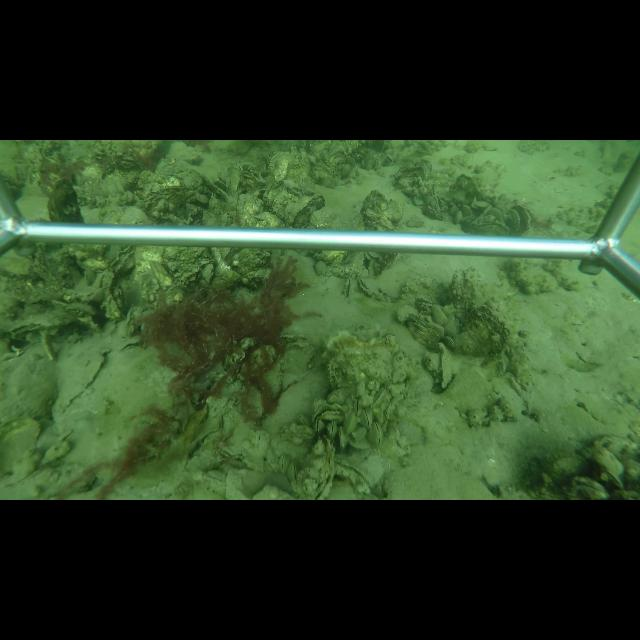Oyster-Closed: (8, 309, 82, 336), (309, 434, 340, 498), (284, 194, 326, 228), (218, 445, 267, 473), (336, 458, 374, 492), (434, 341, 458, 392), (200, 174, 233, 202), (367, 422, 386, 451), (431, 187, 444, 219), (357, 409, 375, 430), (230, 167, 242, 196), (286, 459, 299, 483), (318, 411, 345, 422), (278, 452, 290, 474), (328, 419, 339, 438), (313, 420, 325, 435)
Oyster-Open: (53, 344, 112, 415), (107, 247, 137, 278), (509, 202, 535, 235), (468, 221, 511, 235), (341, 277, 358, 299)
